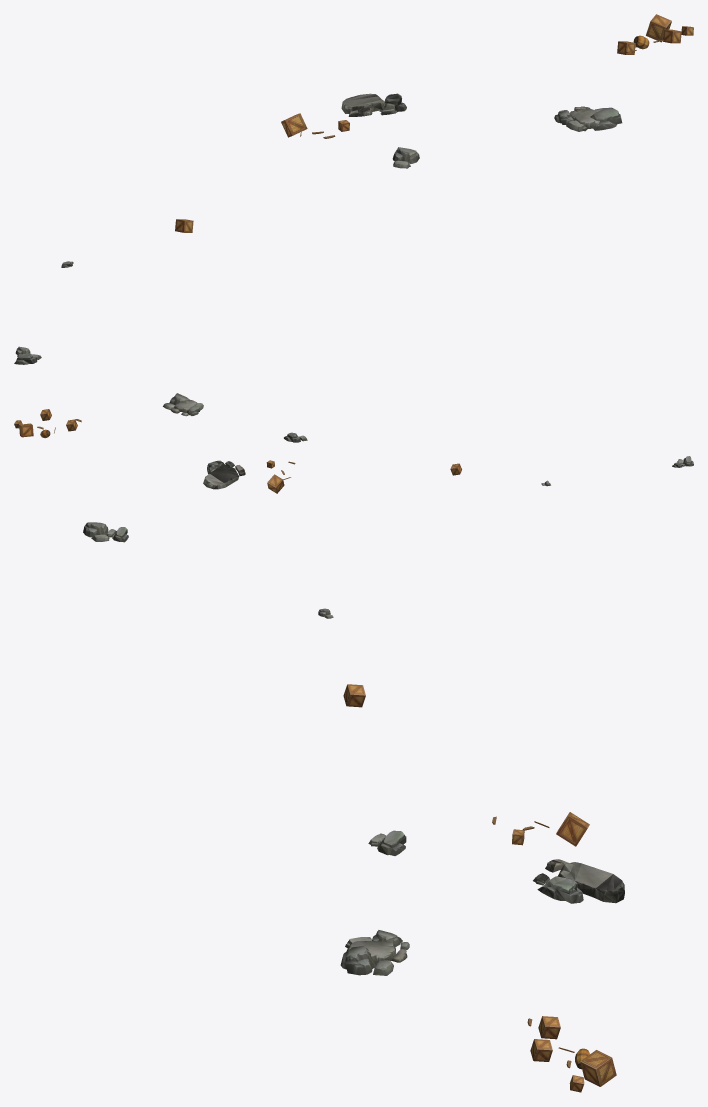
Rendered from wujian2.fbx.
3 views of the same model, one above another, from view 1: azimuth 30°, elevation 25°; view 2: azimuth 150°, elevation 25°; view 3: azimuth 270°, elevation 25° (orthographic). The views are drawn at different scales.
Parts seen in each view (by area): view 1: wujian2; view 2: wujian2; view 3: wujian2.
Part boxes in pixels (<box>): wujian2: <box>14,14,693,364</box>; wujian2: <box>14,393,693,493</box>; wujian2: <box>83,522,624,1092</box>.
Bounding box in the file's own units: 10339 × 372 × 4338.
